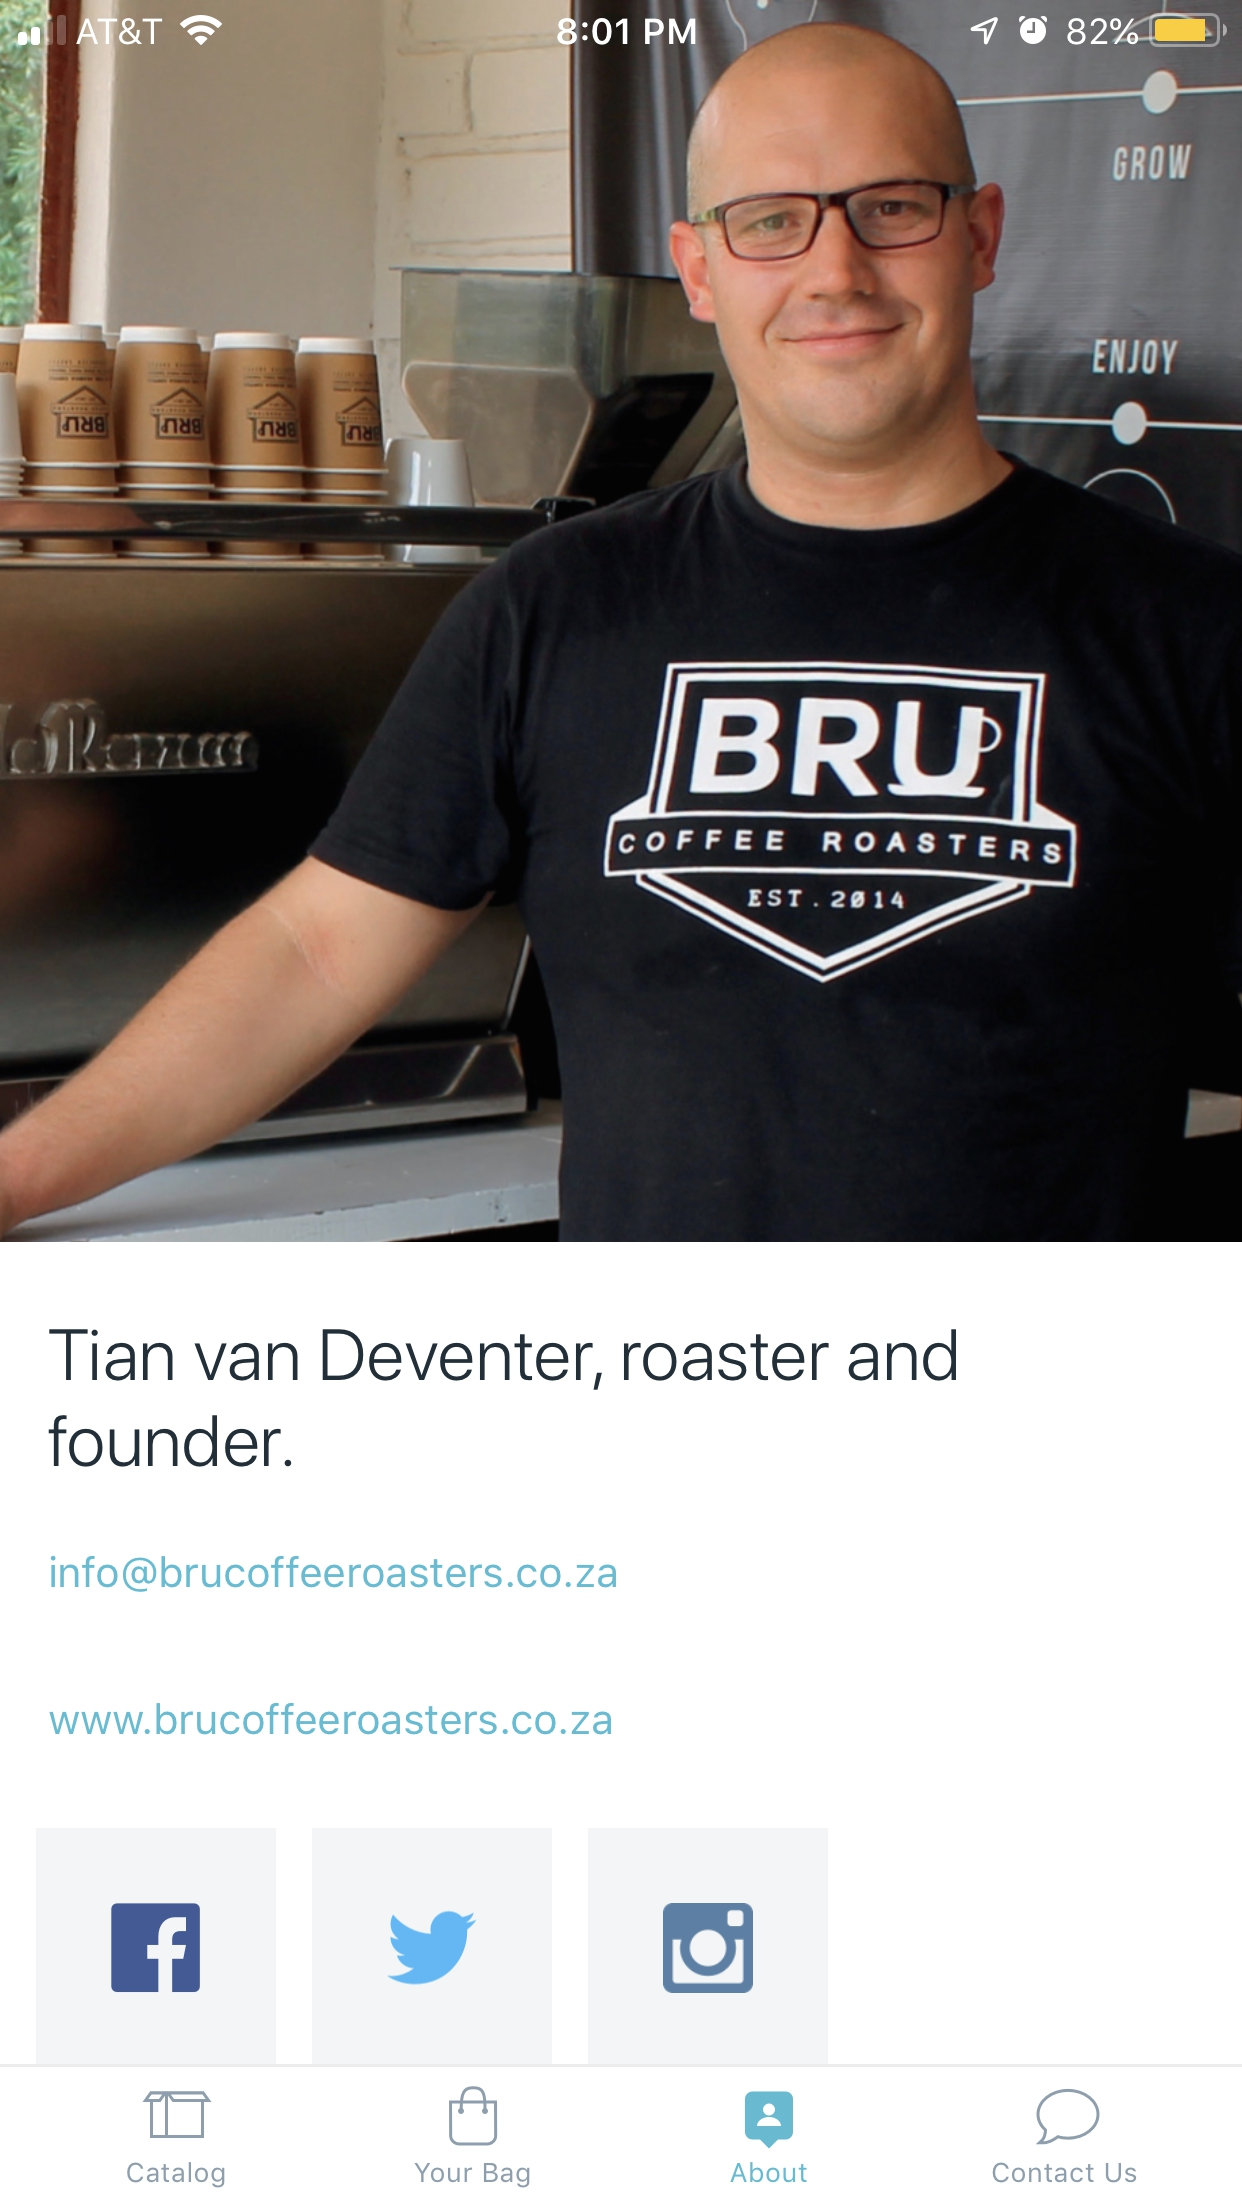Icon: (663, 1903, 754, 1994), (112, 1902, 202, 1993), (388, 1909, 478, 1987), (1034, 2088, 1099, 2144), (745, 2090, 795, 2149), (449, 2087, 497, 2147)
Image: (2, 49, 1242, 1244), (143, 2091, 212, 2138)
Text: (49, 1328, 957, 1468), (52, 1554, 617, 1592), (49, 1701, 613, 1736), (992, 2161, 1137, 2184), (416, 2163, 531, 2188), (127, 2161, 226, 2188), (729, 2161, 808, 2184)
UpperTaskBar: (2, 2, 1242, 49)
